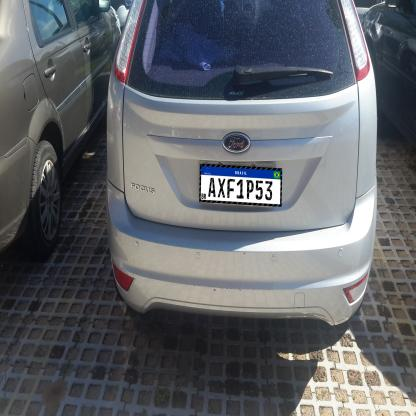PlacaM: (199, 164, 282, 206)
